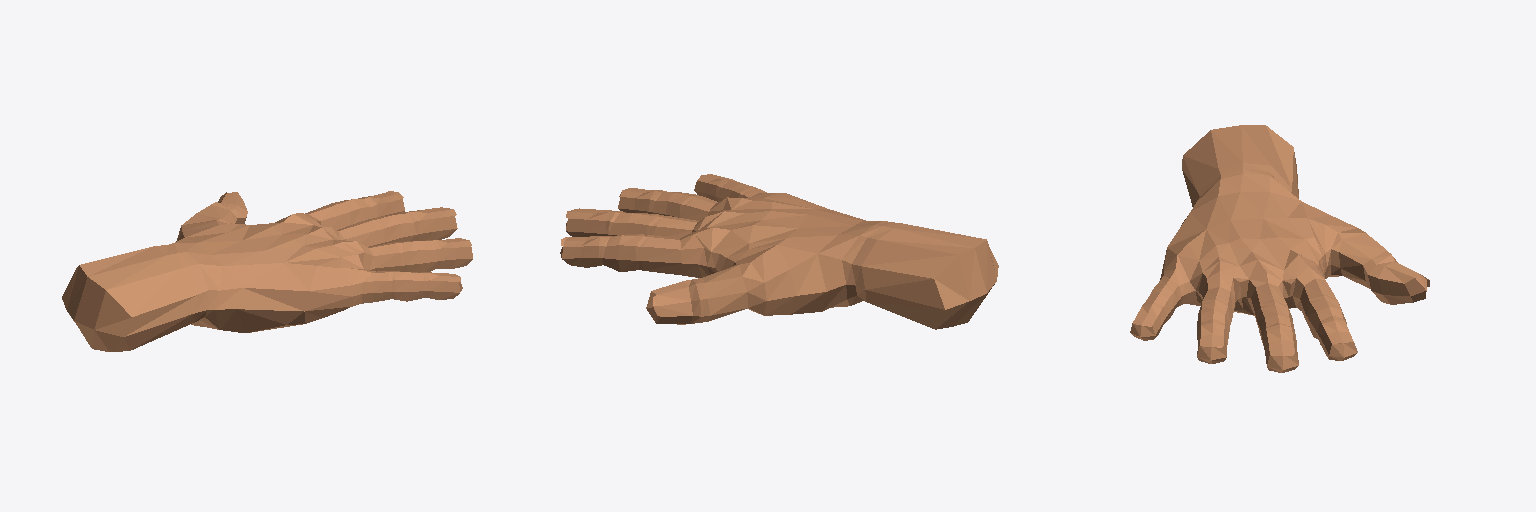
The model's file is hand.obj.
3 views of the same model, side by side, from view 1: azimuth 30°, elevation 25°; view 2: azimuth 150°, elevation 25°; view 3: azimuth 270°, elevation 25° (orthographic).
Parts seen in each view (by area): view 1: Mano_Cube; view 2: Mano_Cube; view 3: Mano_Cube.
Part boxes in pixels (x1,y1,x2,y2): Mano_Cube: (62,191,472,351); Mano_Cube: (560,174,998,329); Mano_Cube: (1130,125,1429,372).
Size of the model in its own units: 3.08 by 0.6005 by 1.99.